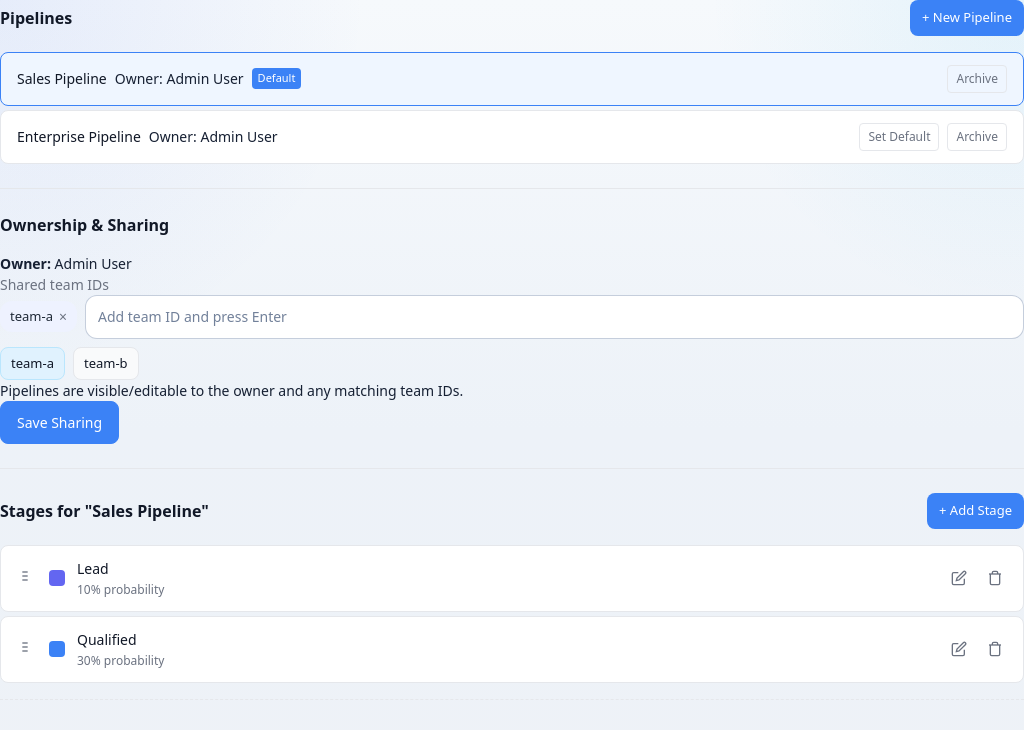
Test: PipelineSettings › shows error when creating pipeline without name
Click new pipeline button
Click the button "+ New Pipeline" at {"x": 967, "y": 18}, box [910,0,1023,36]
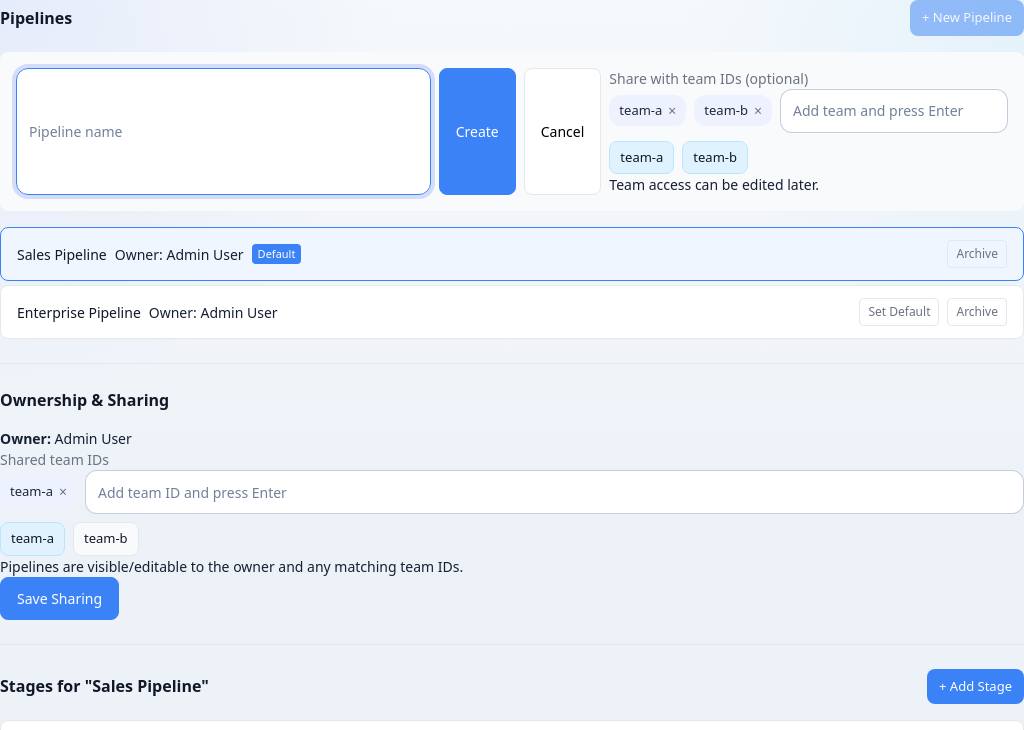
Click create without entering name
Click the button "Create" at {"x": 477, "y": 131}, box [439,68,516,195]
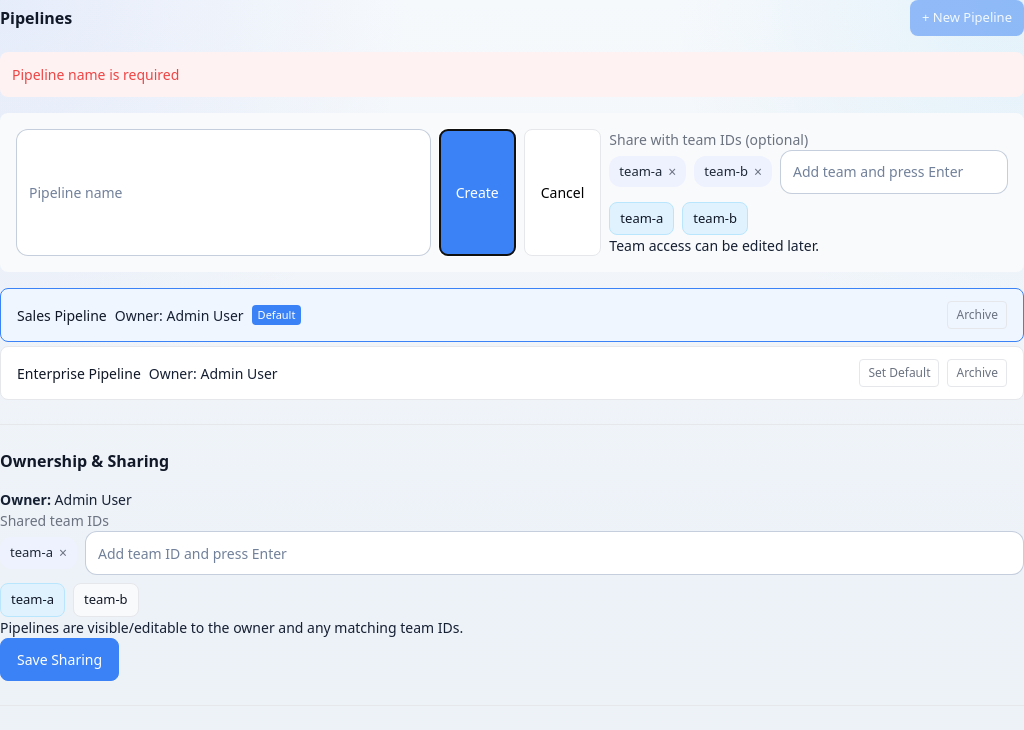
Expected: the message reads "Pipeline name is required", [12,64,179,84]
